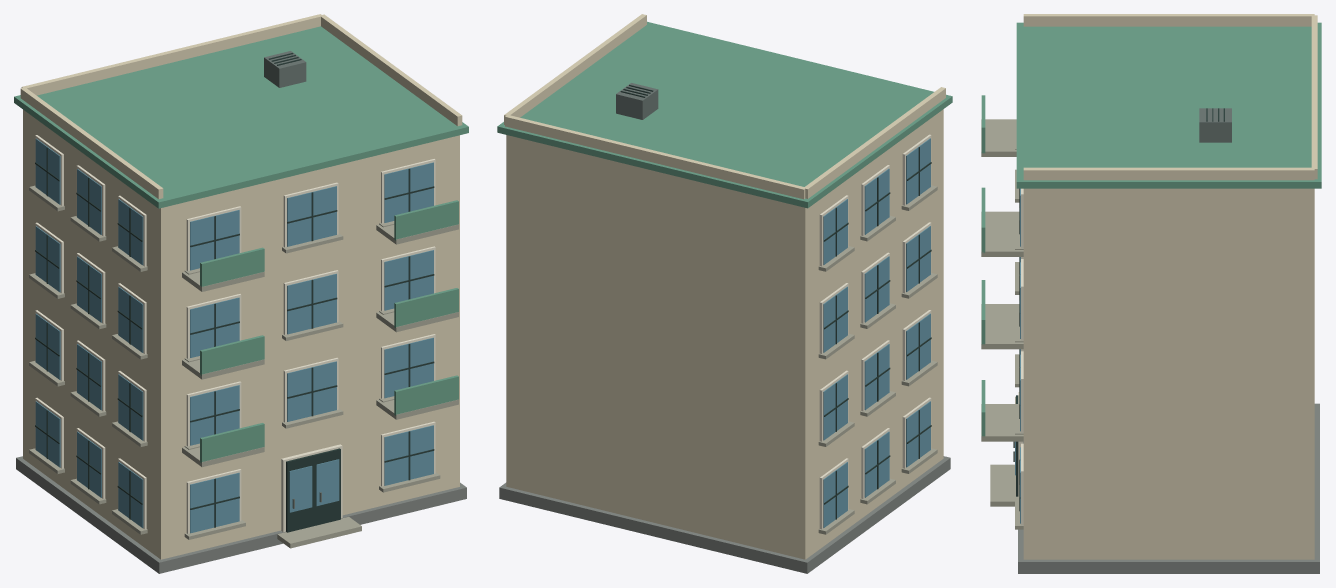
The model's file is ApartmentSmall.obj.
3 renders of one model, left to right at view 1: azimuth 30°, elevation 25°; view 2: azimuth 150°, elevation 25°; view 3: azimuth 270°, elevation 25°, orthographic. The views are drawn at different scales.
Visible parts, largest first — view 1: ApartmentSmall; view 2: ApartmentSmall; view 3: ApartmentSmall.
Part boxes in pixels (x1,y1,x2,y2): ApartmentSmall: (14, 14, 468, 573); ApartmentSmall: (497, 14, 952, 573); ApartmentSmall: (981, 14, 1321, 573).
Bounding box in the file's own units: 10.43 × 12.56 × 9.35.
